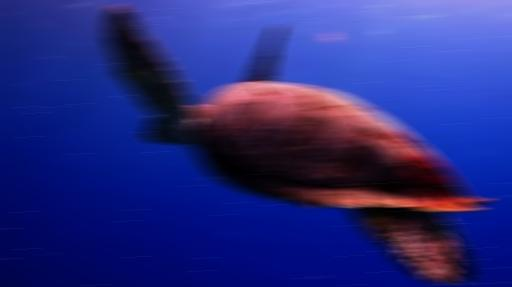Fish: (105, 5, 488, 284)
